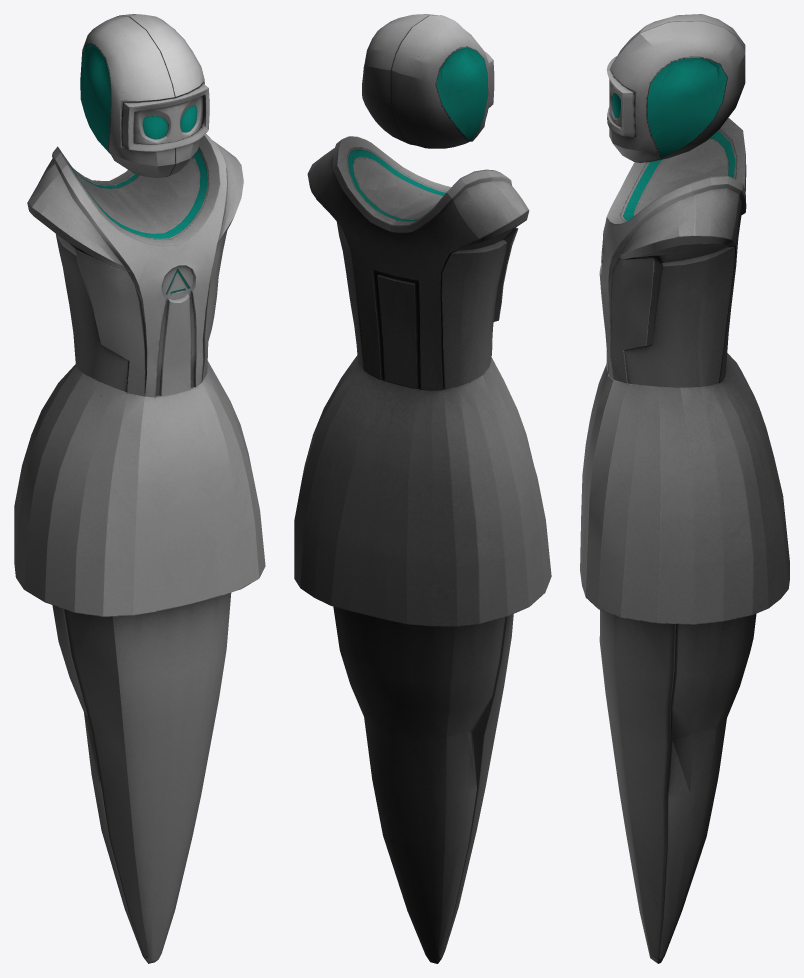
The model's file is S-Series-F01.obj.
3 views of the same model, side by side, from view 1: azimuth 30°, elevation 25°; view 2: azimuth 150°, elevation 25°; view 3: azimuth 270°, elevation 25° (orthographic). The views are drawn at different scales.
Parts seen in each view (by area): view 1: Body, Head; view 2: Body, Head; view 3: Body, Head.
Boxes of the visible parts, x1,y1,x2,y2 form: Body: (14,134,265,963); Head: (80,14,209,178); Body: (294,136,551,963); Head: (362,14,494,148); Body: (580,118,789,963); Head: (606,14,745,163).
Size of the model in its own units: 0.4105 by 1.66 by 0.3353.
Materials: 2 (2 with a texture image).
